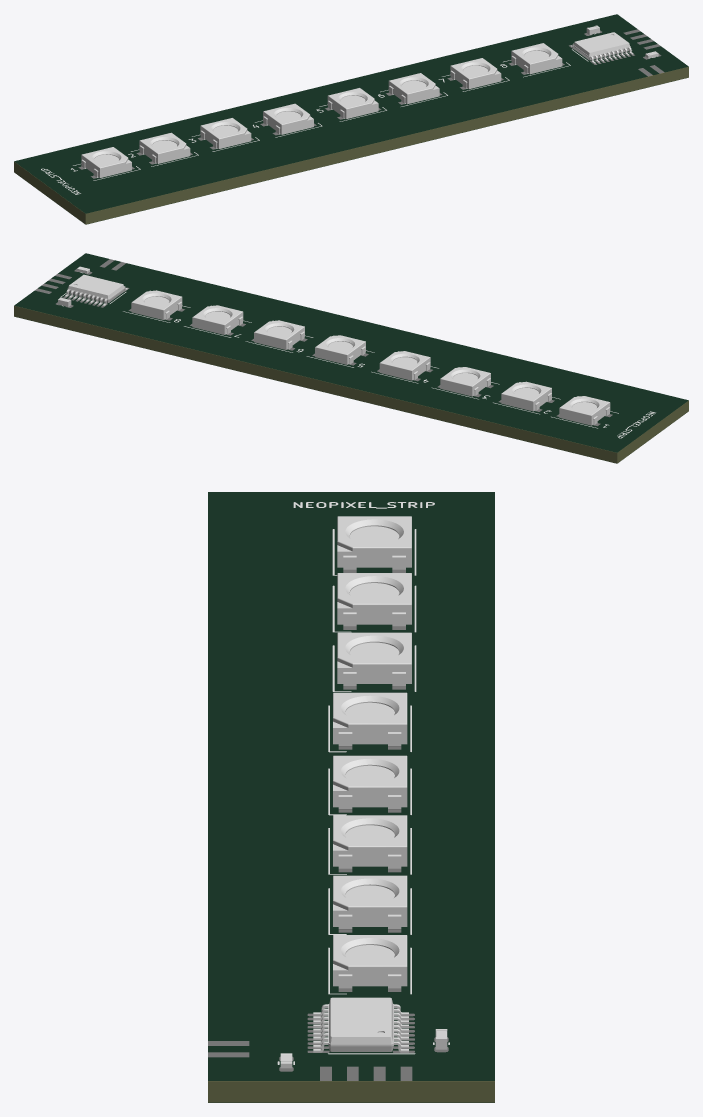
Rendered from REPLICATE_neopixel_strip.glb.
The picture shows the model from 3 angles, top to bottom: view 1: azimuth 30°, elevation 25°; view 2: azimuth 150°, elevation 25°; view 3: azimuth 270°, elevation 25°; orthographic projection. The views are drawn at different scales.
Parts seen in each view (by area): view 1: Face.002, Compound.023, Compound.018, Compound.014, Compound.004, Compound.016, Compound.010, Compound.006, Compound.012, Compound.002, Compound.008, Face.004 (+1 smaller); view 2: Face.002, Compound.023, Compound.018, Compound.008, Compound.016, Compound.002, Compound.014, Compound.010, Compound.012, Compound.006, Compound.004, Face.004 (+1 smaller); view 3: Face.002, Compound.023, Compound.018, Compound.008, Compound.010, Compound.006, Compound.014, Compound.012, Compound.016, Compound.002, Compound.004, Face.001 (+1 smaller).
Boxes of the visible parts, x1,y1,x2,y2 form: Face.002: (14,14,688,213); Compound.023: (14,66,688,224); Compound.018: (570,32,633,63); Compound.014: (450,58,501,89); Compound.004: (139,132,190,163); Compound.016: (511,43,562,74); Compound.010: (327,88,378,118); Compound.006: (200,118,251,148); Compound.012: (388,73,439,104); Compound.002: (81,147,131,177); Compound.008: (263,103,313,134); Face.004: (41,33,655,194); Face.002: (14,253,688,452); Compound.023: (14,305,688,463); Compound.018: (64,274,127,306); Compound.008: (379,351,430,380); Compound.016: (131,290,182,319); Compound.002: (559,396,610,425); Compound.014: (192,305,243,334); Compound.010: (315,335,365,364); Compound.012: (254,320,304,349); Compound.006: (440,367,490,396); Compound.004: (501,381,551,411); Face.004: (60,272,655,438); Face.002: (208,492,494,1080); Compound.023: (208,1081,494,1102); Compound.018: (313,997,408,1052); Compound.008: (333,692,407,746); Compound.010: (333,755,407,809); Compound.006: (337,632,411,686); Compound.014: (333,875,407,929); Compound.012: (333,815,407,868); Compound.016: (333,935,407,988); Compound.002: (337,516,411,569); Compound.004: (337,573,411,626); Face.001: (208,570,448,1080).
Bounding box in the file's own units: 93.45 × 3.21 × 19.25.
